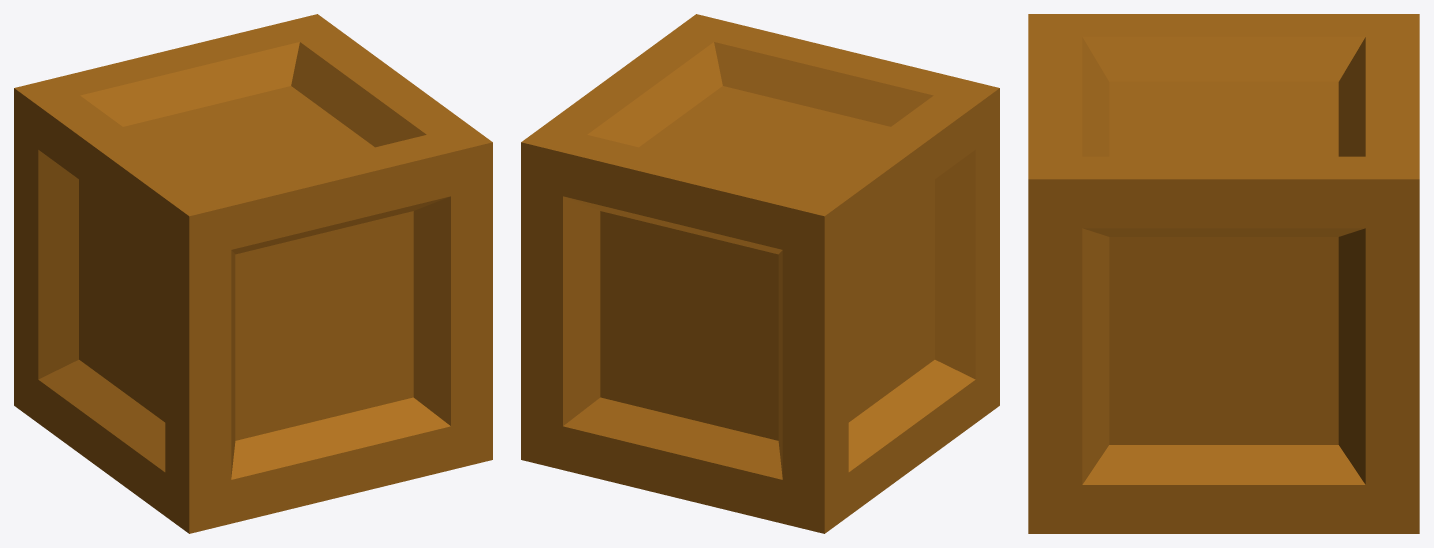
3 views of the same model, side by side, from view 1: azimuth 30°, elevation 25°; view 2: azimuth 150°, elevation 25°; view 3: azimuth 270°, elevation 25° (orthographic). The views are drawn at different scales.
Visible parts, largest first — view 1: Cube; view 2: Cube; view 3: Cube.
Boxes of the visible parts, bbox=[...] form: Cube: bbox=[14, 14, 492, 533]; Cube: bbox=[521, 14, 999, 533]; Cube: bbox=[1028, 14, 1419, 533].
Size of the model in its own units: 200 by 200 by 200.
